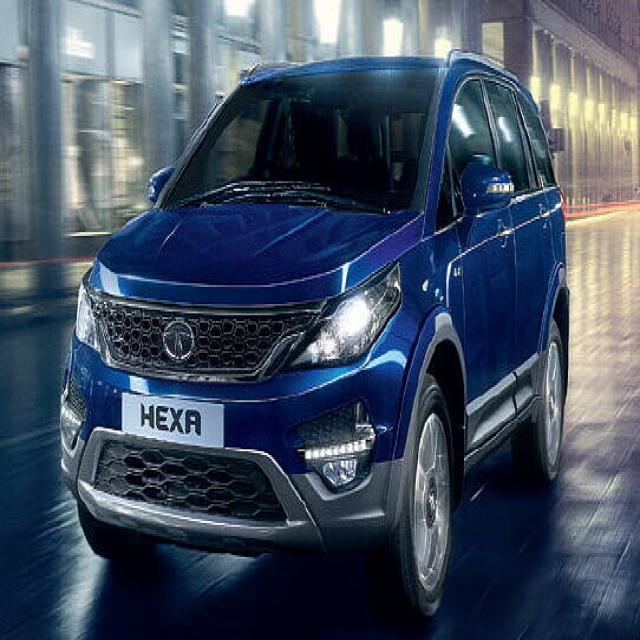car: (69, 57, 564, 566)
